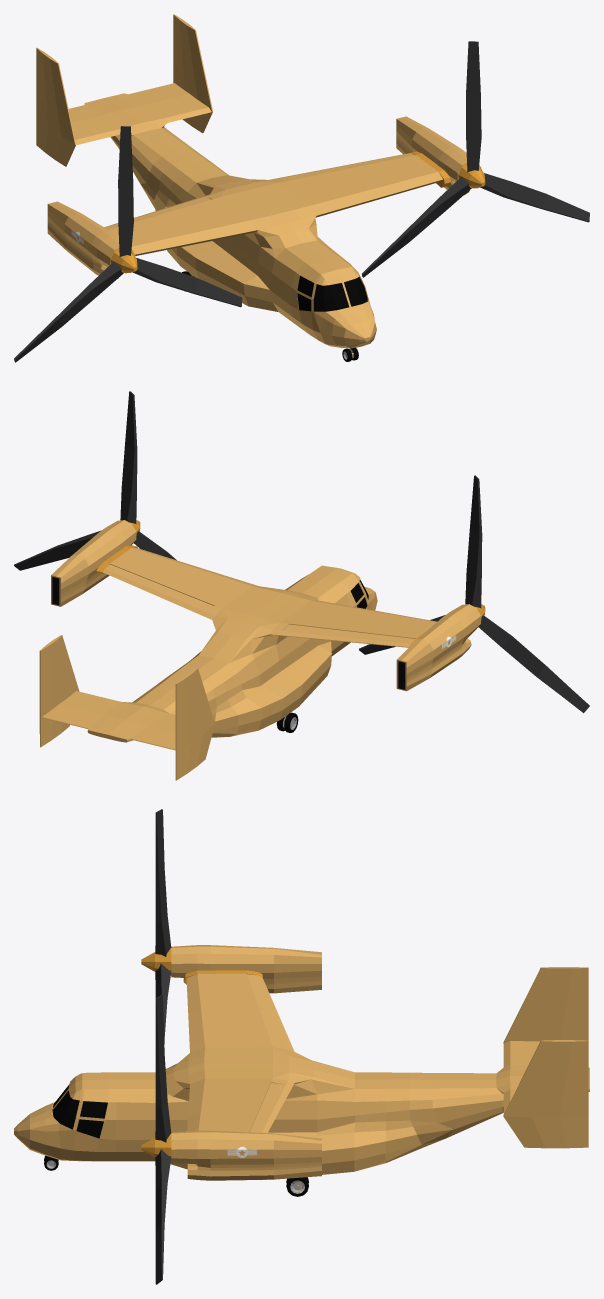
The picture shows the model from 3 angles, top to bottom: view 1: azimuth 30°, elevation 25°; view 2: azimuth 150°, elevation 25°; view 3: azimuth 270°, elevation 25°; orthographic projection. The views are drawn at different scales.
Visible parts, largest first — view 1: Circle, R_propeller, L_propeller, R, L, L_Elevator, R_Rudder, L_Rudder; view 2: Circle, R_propeller, R, L, L_propeller, R_Flap2, L_Elevator, L_Flap2, R_Flap1, L_Flap1, R_elevator, L_Rudder (+1 smaller); view 3: Circle, L, R, L_propeller, R_propeller, R_Rudder, L_Rudder, R_Flap2, L_Flap2.
Part boxes in pixels (left/top/right/bottom): Circle: left=36, top=19, right=450, bottom=348; R_propeller: left=14, top=126, right=242, bottom=362; L_propeller: left=362, top=41, right=589, bottom=277; R: left=47, top=201, right=133, bottom=278; L: left=396, top=116, right=481, bottom=195; L_Elevator: left=131, top=83, right=189, bottom=103; R_Rudder: left=36, top=47, right=46, bottom=104; L_Rudder: left=173, top=14, right=183, bottom=71; Circle: left=39, top=545, right=436, bottom=780; R_propeller: left=359, top=475, right=589, bottom=713; R: left=396, top=604, right=480, bottom=691; L: left=51, top=520, right=136, bottom=606; L_propeller: left=14, top=391, right=176, bottom=570; R_Flap2: left=279, top=624, right=352, bottom=641; L_Elevator: left=42, top=704, right=100, bottom=728; L_Flap2: left=154, top=585, right=213, bottom=616; R_Flap1: left=344, top=631, right=415, bottom=647; L_Flap1: left=102, top=564, right=161, bottom=594; R_elevator: left=133, top=726, right=175, bottom=750; L_Rudder: left=39, top=645, right=52, bottom=699; Circle: left=14, top=967, right=589, bottom=1174; L: left=171, top=1130, right=321, bottom=1180; R: left=171, top=945, right=321, bottom=993; L_propeller: left=141, top=995, right=171, bottom=1284; R_propeller: left=141, top=809, right=171, bottom=1043; R_Rudder: left=564, top=967, right=588, bottom=1021; L_Rudder: left=564, top=1040, right=588, bottom=1094; R_Flap2: left=259, top=1008, right=292, bottom=1046; L_Flap2: left=259, top=1083, right=292, bottom=1114.
Size of the model in its own units: 2646 by 1053 by 2085.
